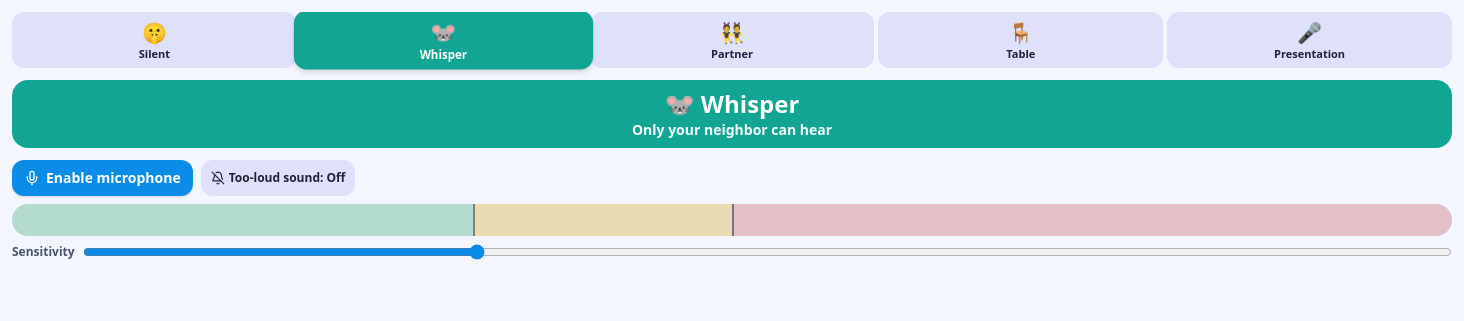
Test: Voice Level widget › shows a helpful message when microphone permission is denied
What coordinates should you click on to do the following:
click the button "Enable microphone"
I would click on:
 (102, 178)
Its box is 12,160 -> 193,196.
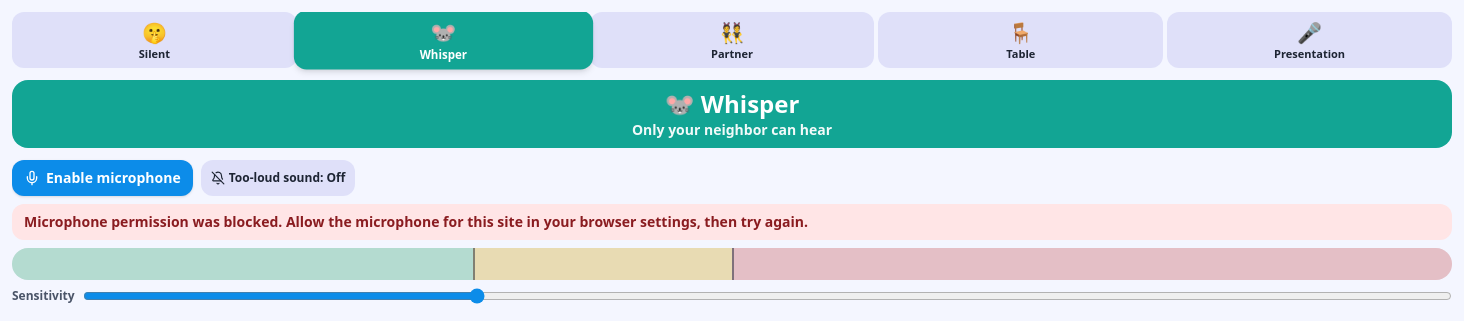
Result: the message with test id "mic-error" shows "blocked" at 24,212 -> 808,231
